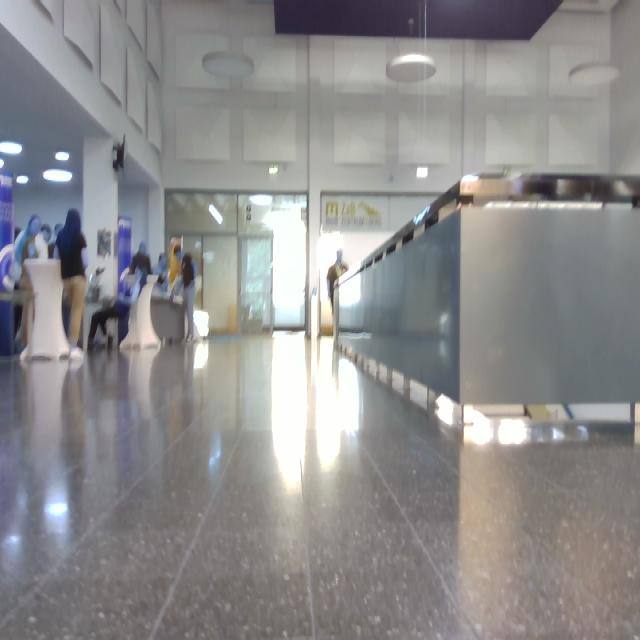door: (240, 239, 274, 334)
light bulb: (387, 54, 437, 82), (204, 53, 255, 79), (570, 63, 621, 85), (500, 419, 527, 445), (44, 169, 74, 183), (210, 204, 224, 225), (250, 196, 274, 207), (1, 144, 24, 155), (56, 153, 69, 163), (17, 176, 29, 184)
person: (89, 244, 152, 350), (57, 209, 89, 359), (16, 216, 42, 292), (327, 251, 350, 315), (182, 254, 196, 340), (36, 224, 52, 259)
staircase: (336, 176, 640, 406)
table: (22, 261, 71, 360), (124, 276, 161, 349)
tiled floor: (1, 339, 640, 639)
